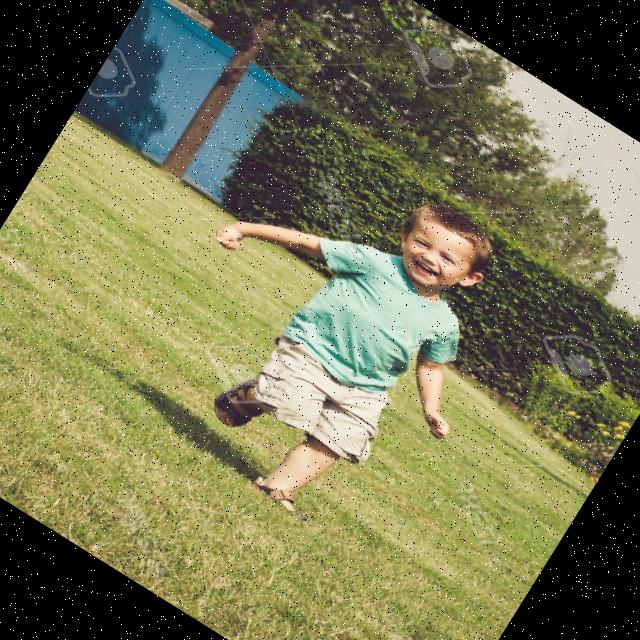Person: (107, 108, 548, 562)
